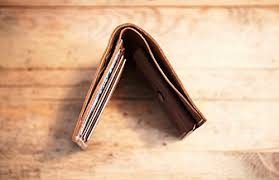monedero: (71, 23, 206, 151)
